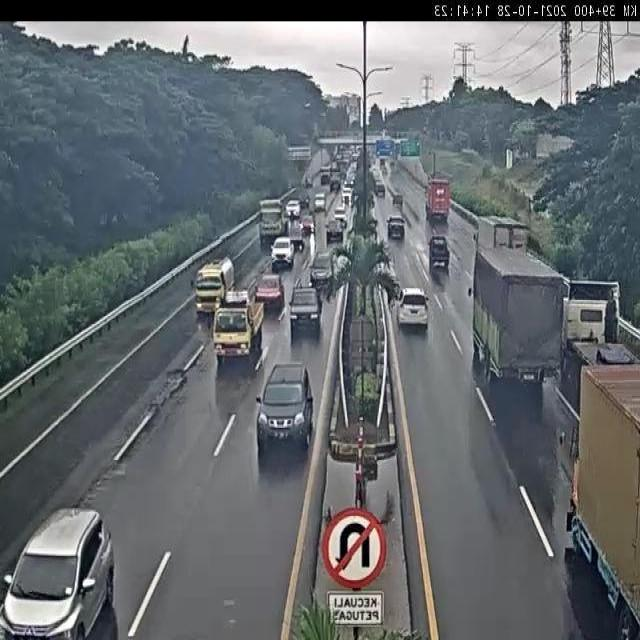Car: (1, 506, 116, 637), (256, 363, 314, 459), (288, 285, 322, 340), (396, 286, 429, 331), (254, 274, 284, 313), (309, 250, 333, 290), (270, 236, 295, 269), (429, 236, 450, 271), (386, 215, 406, 240), (326, 218, 343, 244), (286, 200, 302, 220), (334, 203, 347, 226), (300, 215, 314, 236), (373, 174, 385, 197), (341, 184, 353, 205), (329, 172, 341, 192), (314, 192, 326, 211), (320, 166, 331, 184)
Truck: (576, 368, 640, 627), (466, 248, 564, 386), (212, 292, 263, 364), (194, 256, 234, 304), (477, 216, 522, 254), (427, 177, 451, 221), (259, 199, 283, 233), (287, 220, 306, 251)
